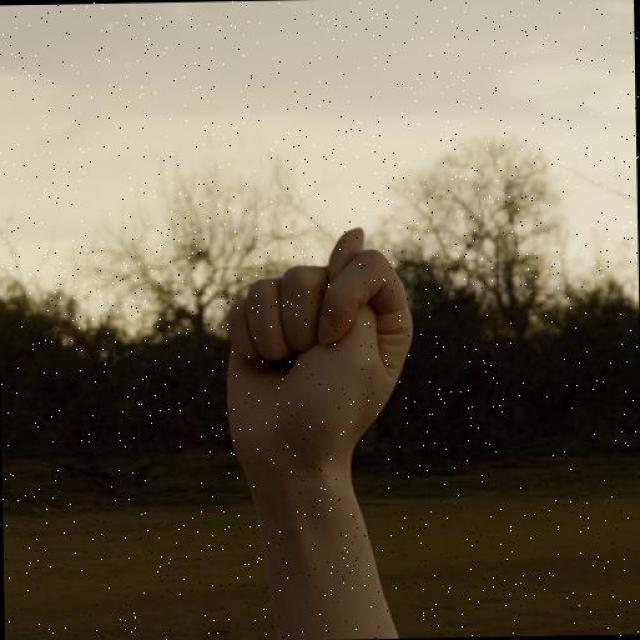T: (217, 218, 428, 487)
